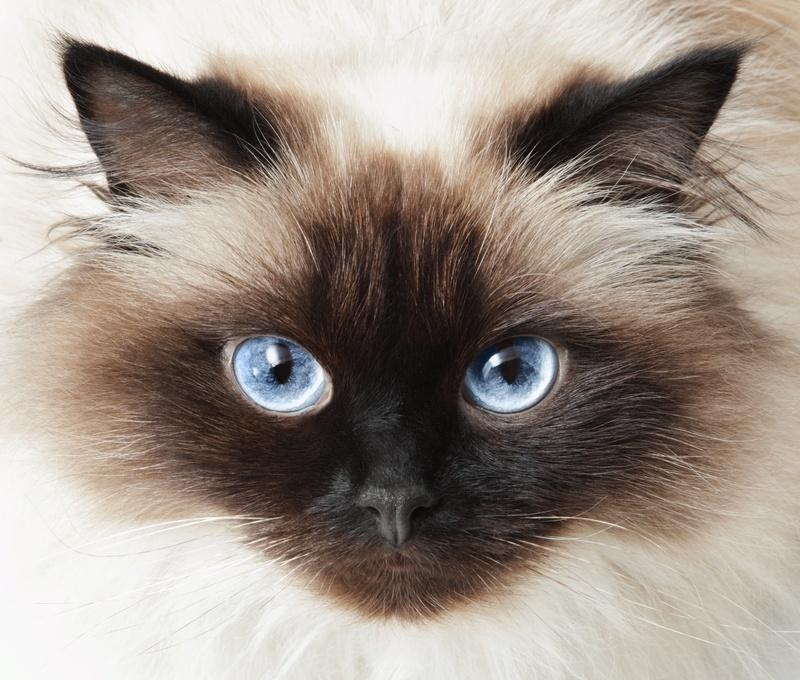siamese: (45, 1, 778, 680)
